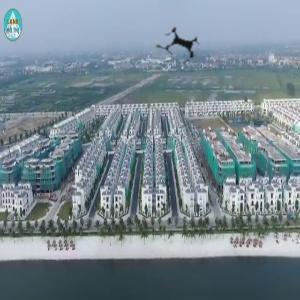drone: (146, 12, 216, 82)
